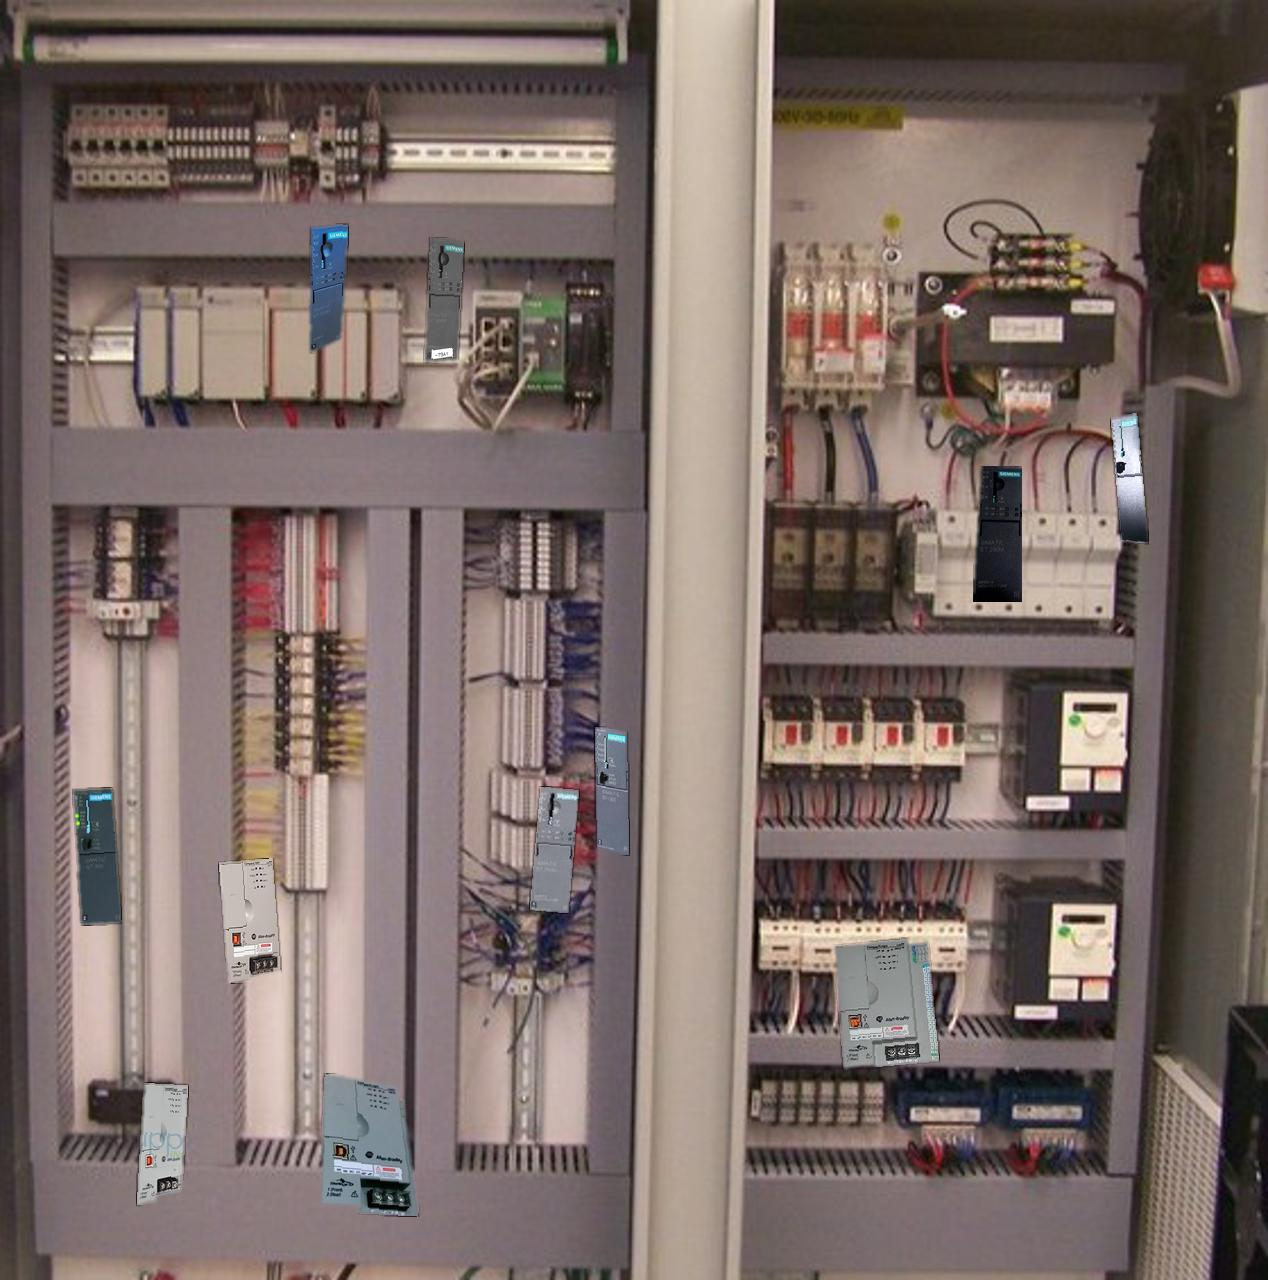AllenBradley: (322, 1073, 417, 1216), (835, 939, 938, 1067), (219, 858, 280, 983), (137, 1083, 187, 1205)
Siemens: (73, 788, 121, 925), (1111, 414, 1148, 542), (595, 727, 628, 854)
